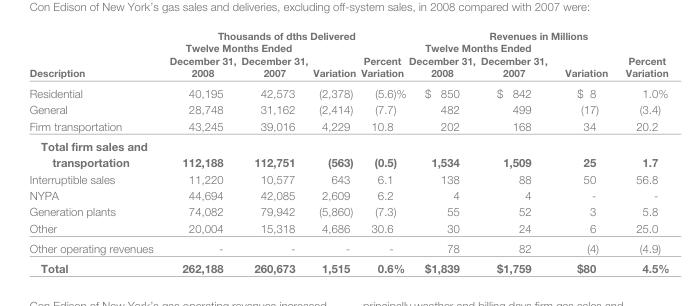table: (28, 28, 668, 274)
table column: (28, 28, 160, 274), (477, 28, 555, 274), (160, 28, 237, 274), (237, 28, 309, 274), (406, 28, 477, 274), (555, 28, 616, 274), (616, 28, 668, 274), (357, 28, 406, 274), (309, 28, 357, 274)
table column header: (28, 28, 668, 82)
table row: (28, 135, 668, 170), (28, 53, 668, 82), (28, 237, 668, 257), (28, 82, 668, 100), (28, 117, 668, 135), (28, 219, 668, 237), (28, 100, 668, 117), (28, 202, 668, 219), (28, 257, 668, 274), (28, 170, 668, 186), (28, 186, 668, 202), (28, 28, 668, 41), (28, 41, 668, 53)
table spanning cell: (28, 28, 160, 82), (406, 28, 668, 41), (160, 28, 406, 41), (555, 41, 616, 82), (616, 41, 668, 82), (357, 41, 406, 82), (309, 41, 357, 82), (160, 41, 309, 53), (406, 41, 555, 53)
